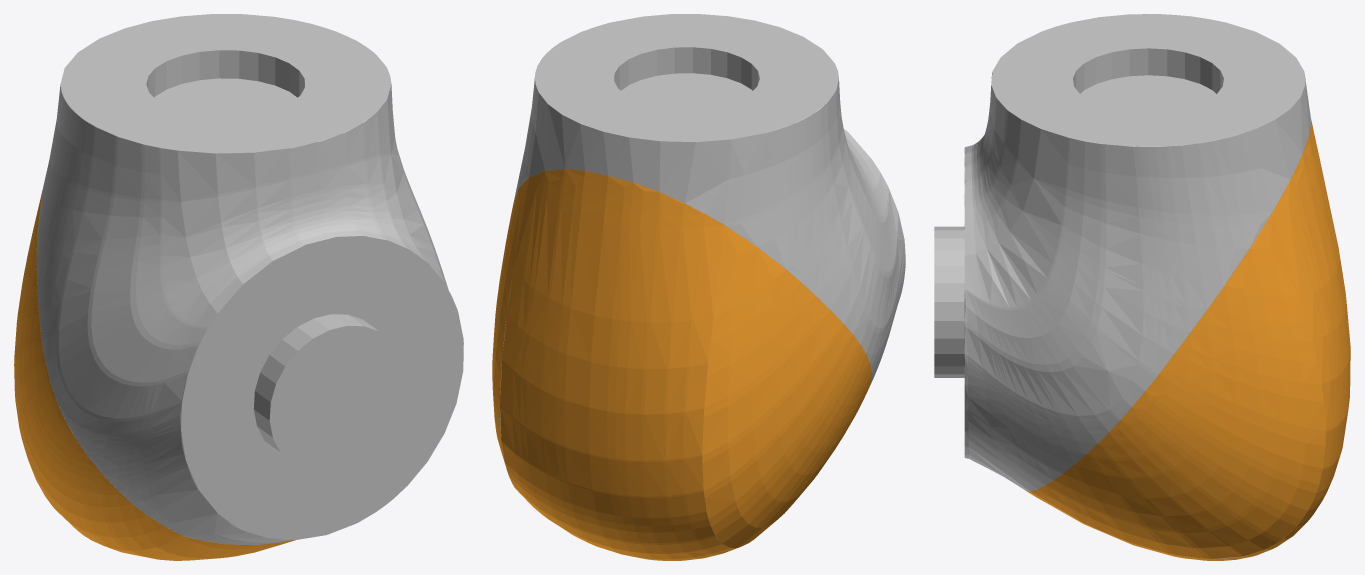
3 renders of one model, left to right at view 1: azimuth 30°, elevation 25°; view 2: azimuth 150°, elevation 25°; view 3: azimuth 270°, elevation 25°, orthographic. The views are drawn at different scales.
Parts seen in each view (by area): view 1: link_6; view 2: link_6; view 3: link_6.
Part boxes in pixels (bbox=[...]): link_6: bbox=[14, 14, 463, 560]; link_6: bbox=[492, 14, 905, 560]; link_6: bbox=[934, 14, 1350, 560].
Size of the model in its own units: 0.1322 by 0.1375 by 0.1674.
